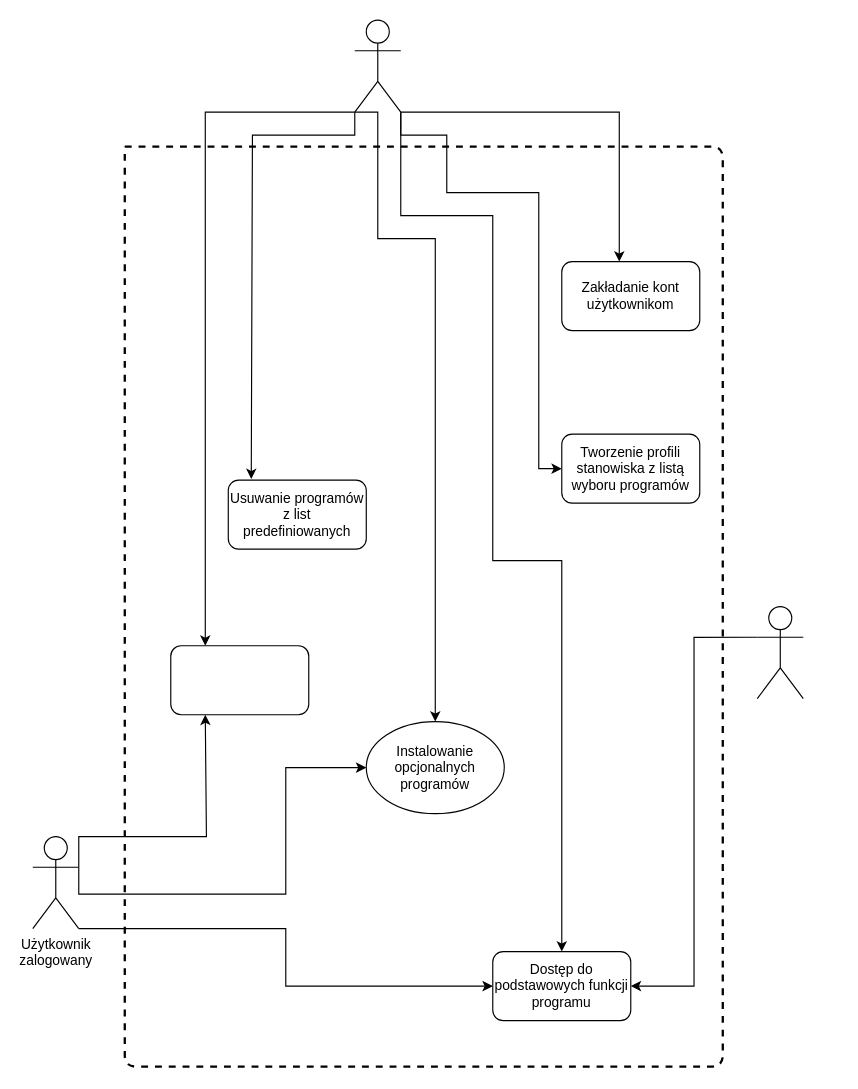
The diagram is 858 pixels wide and 1089 high, and some of its shapes have lost their labels. Here are the shapes that lost their labels. From the top down, the centre of each, then its label:
(x=377, y=65): Administrator
(x=779, y=652): Użytkownik niezarejestrowany
(x=239, y=680): Możliwość zalogowania na konto
